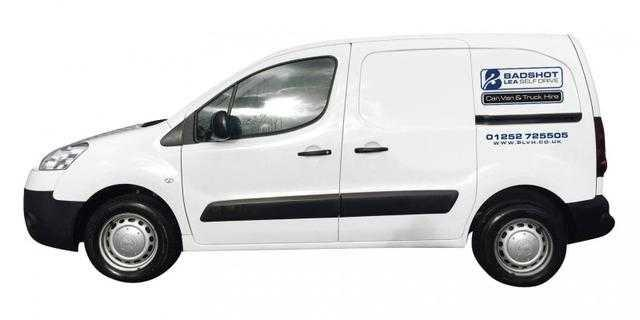car: (19, 30, 618, 285)
